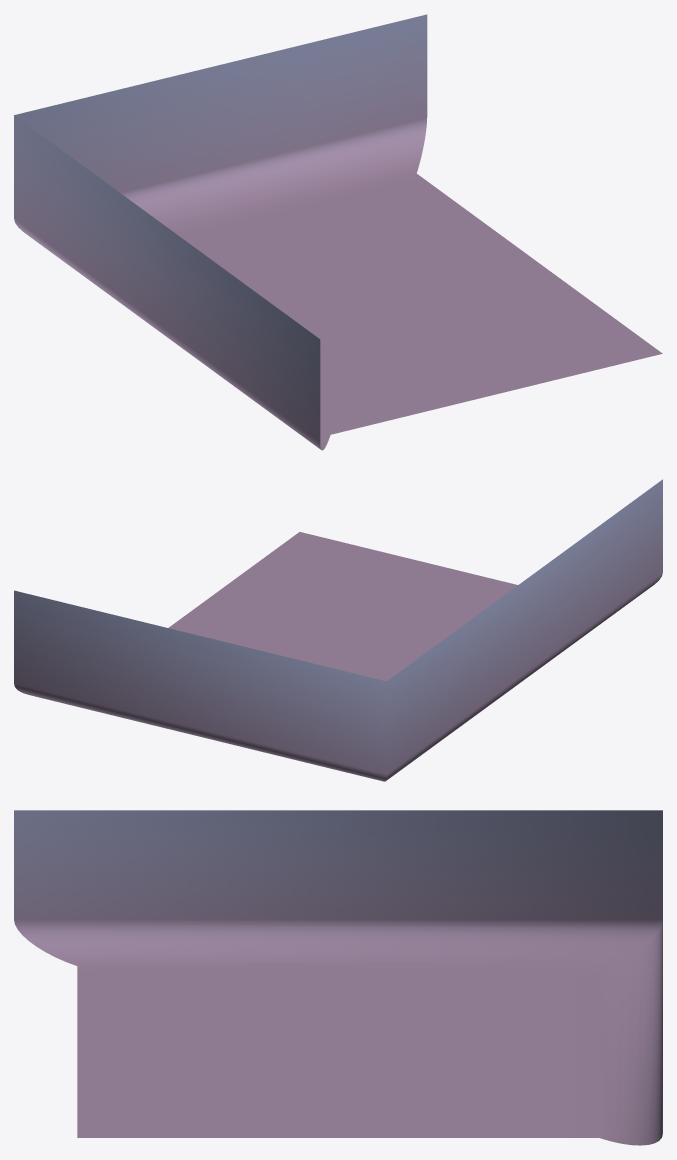
The picture shows the model from 3 angles, top to bottom: view 1: azimuth 30°, elevation 25°; view 2: azimuth 150°, elevation 25°; view 3: azimuth 270°, elevation 25°; orthographic projection. The views are drawn at different scales.
Visible parts, largest first — view 1: Plane.016; view 2: Plane.016; view 3: Plane.016.
Part boxes in pixels (left/top/right/bottom): Plane.016: left=14, top=14, right=662, bottom=450; Plane.016: left=14, top=479, right=662, bottom=781; Plane.016: left=14, top=810, right=662, bottom=1145.
Bounding box in the file's own units: 71.94 × 21.18 × 92.35.
1 material, 1 textured.
